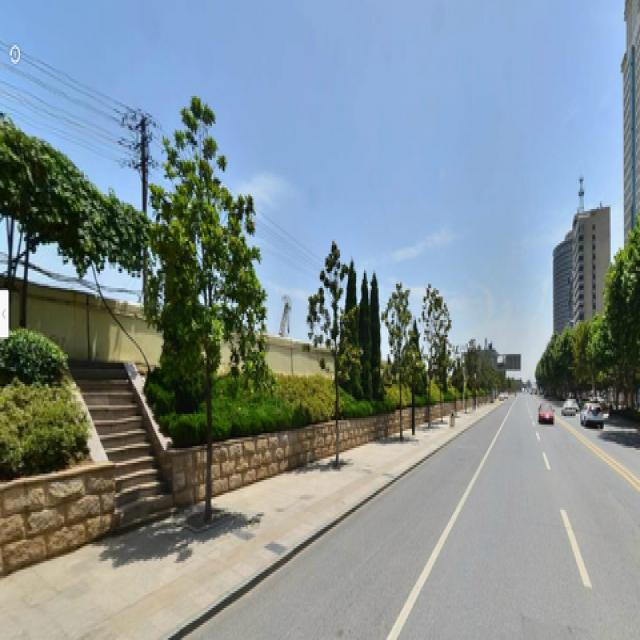magn: (148, 94, 271, 512)
